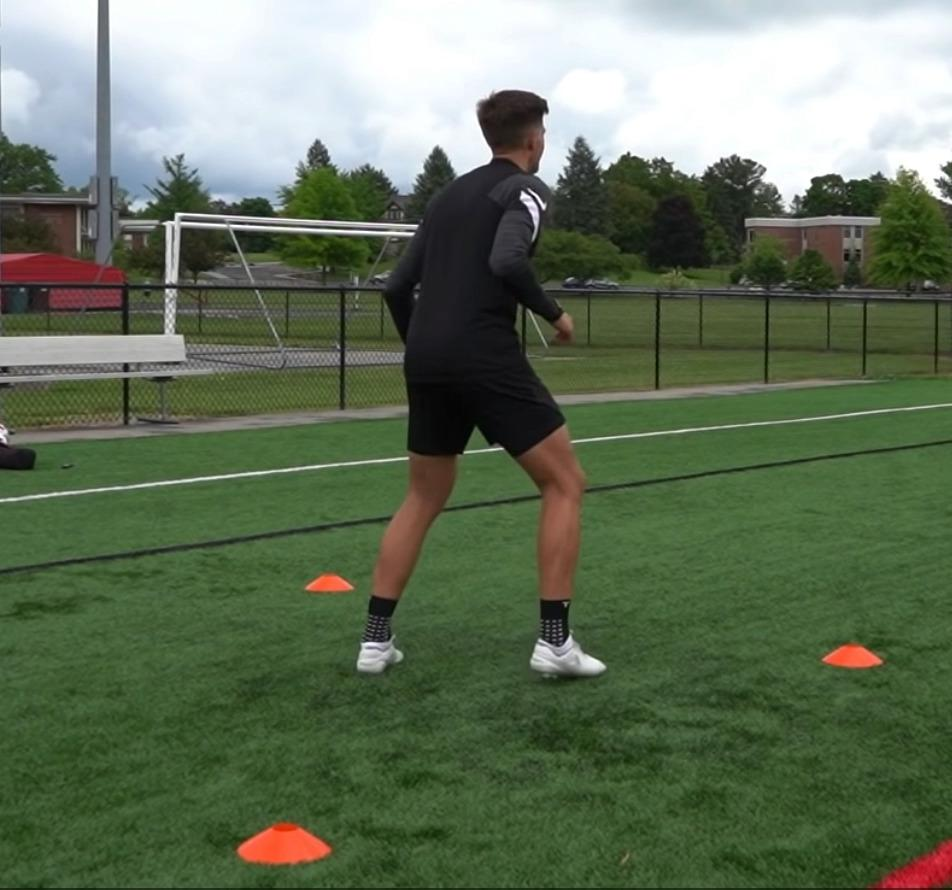foot: (530, 633, 605, 678), (356, 639, 402, 677)
person: (358, 87, 608, 680)
